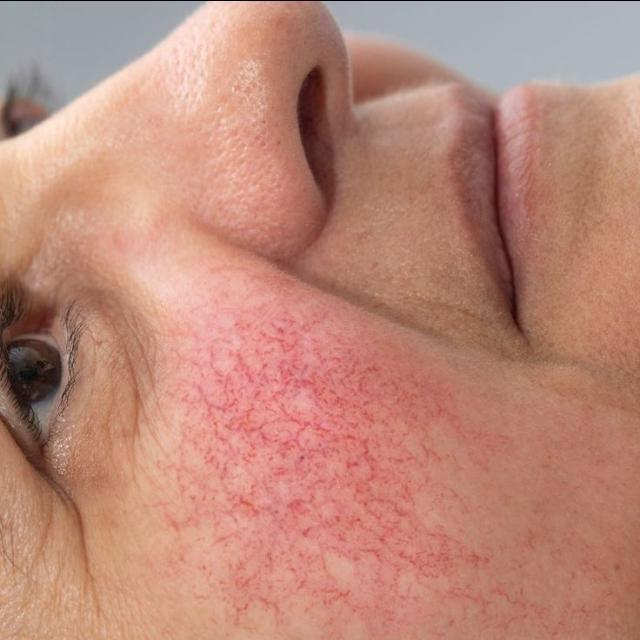Rosacea: (213, 336, 419, 551)
